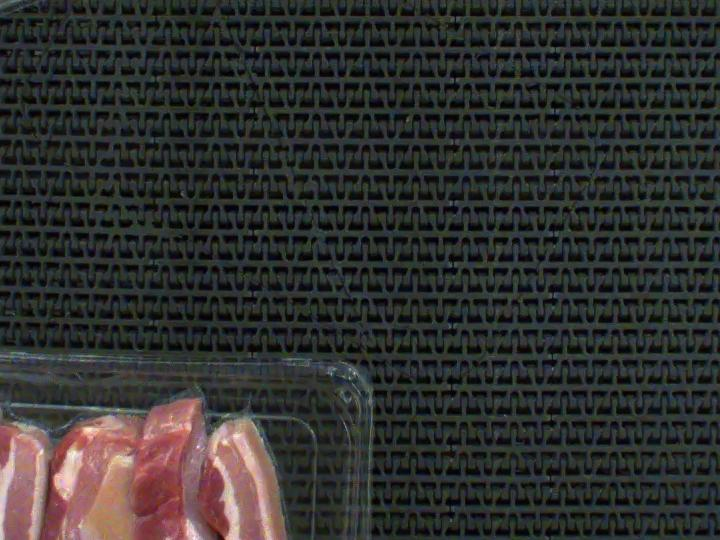twisted-meat: (130, 416, 220, 540)
unsealed: (0, 378, 293, 493)
